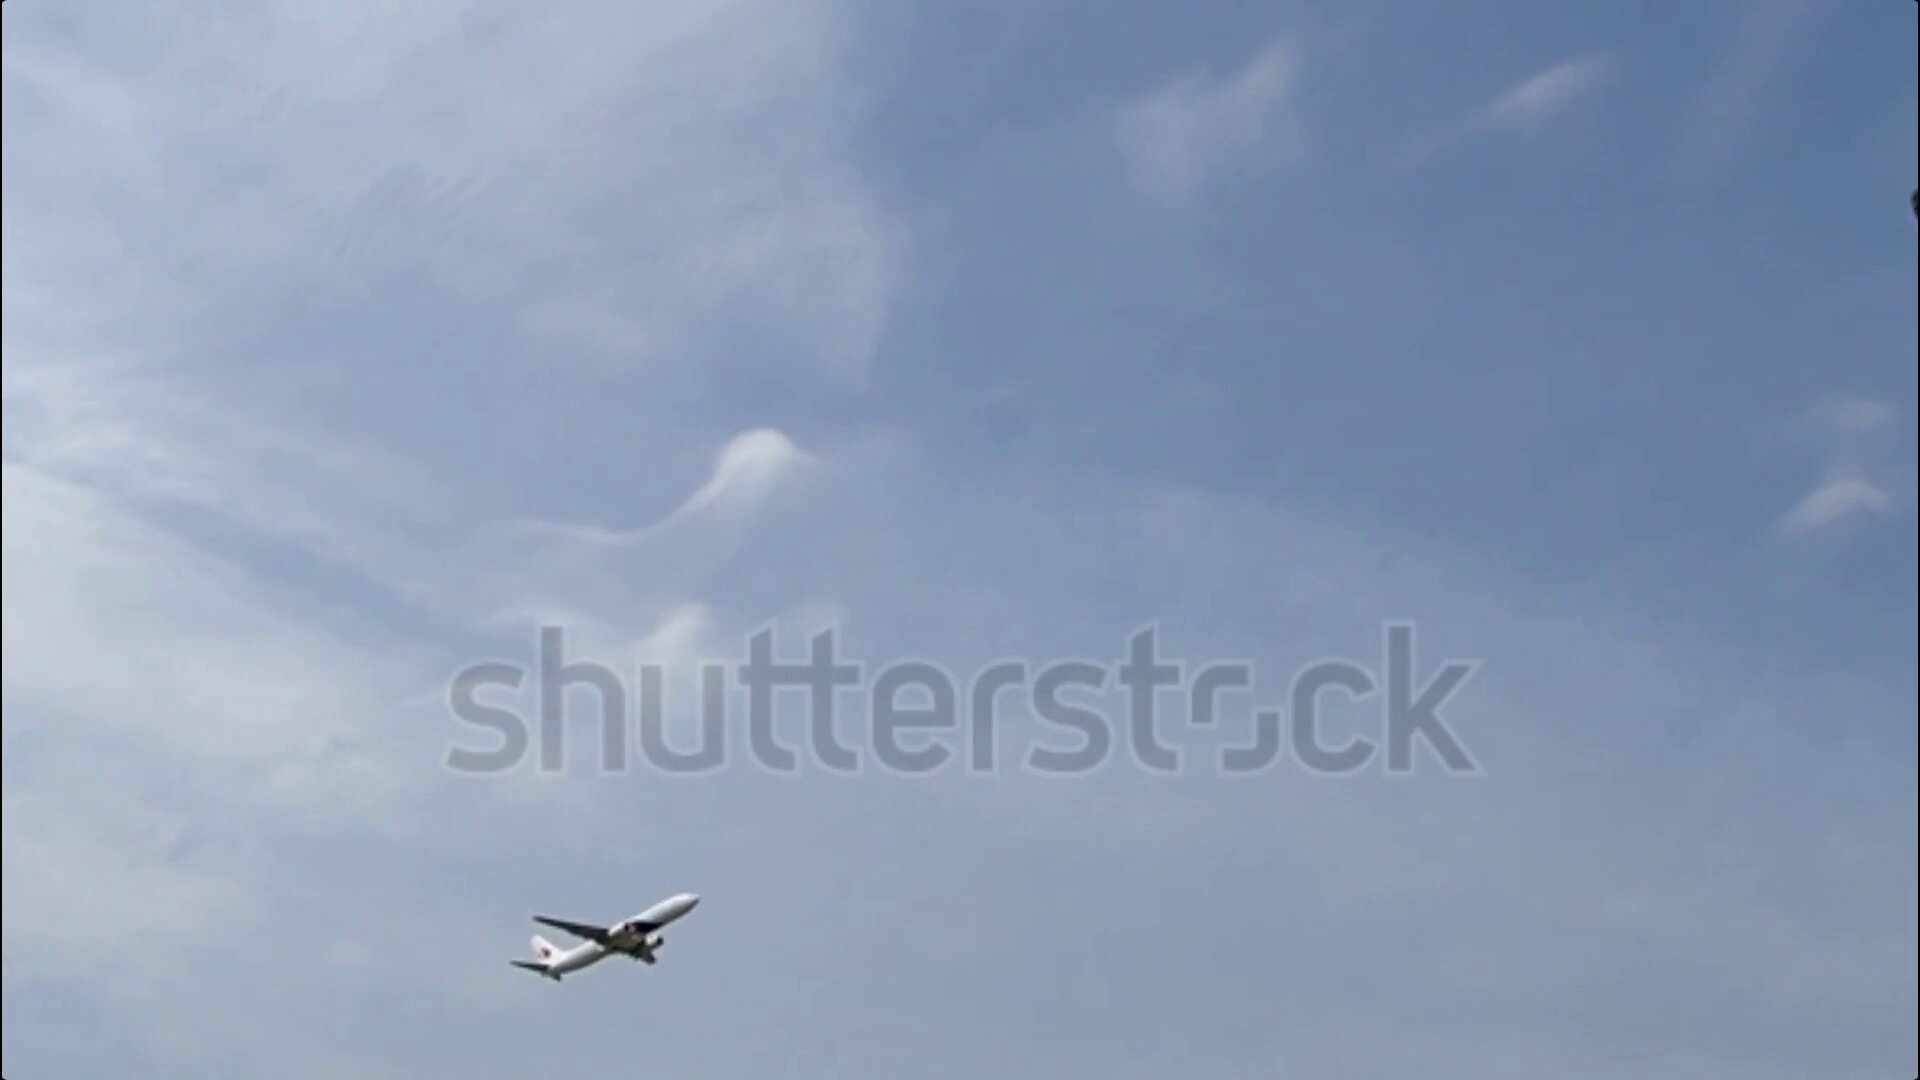airplane: (505, 889, 703, 986)
